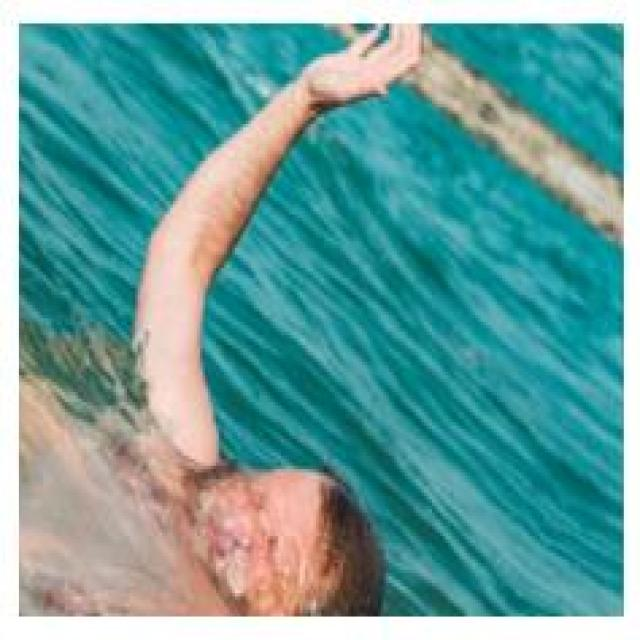Out of Water: (128, 22, 452, 615)
